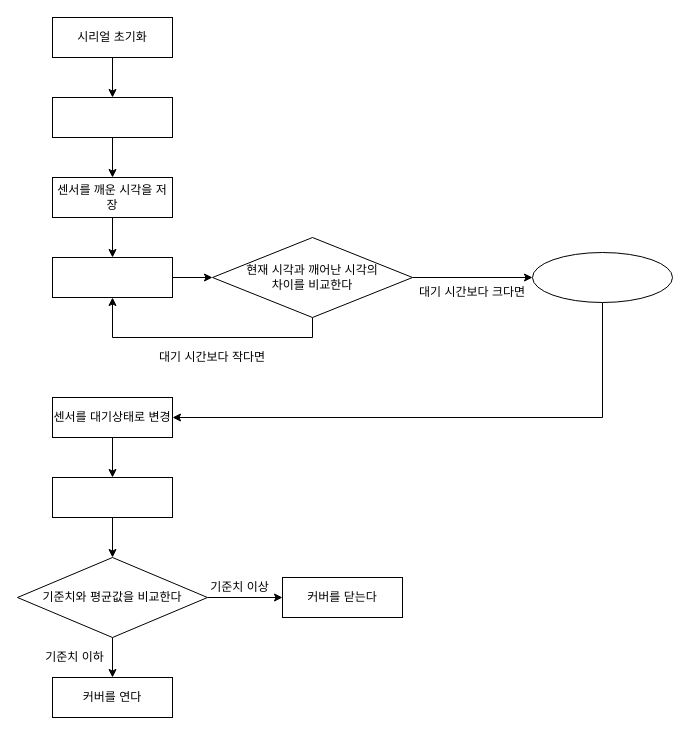
Some shapes in this 690 by 735 pixel diagram are drawn without their labels. Here are the shapes that lost their labels. From the top down, the box of each, then its label:
(52, 96, 172, 138): 센서를 깨운다
(52, 256, 172, 298): 현재 시각을 측정
(532, 252, 672, 302): 미세먼지 농도를 측정한다
(52, 476, 172, 518): 측정값의 평균을 계산
